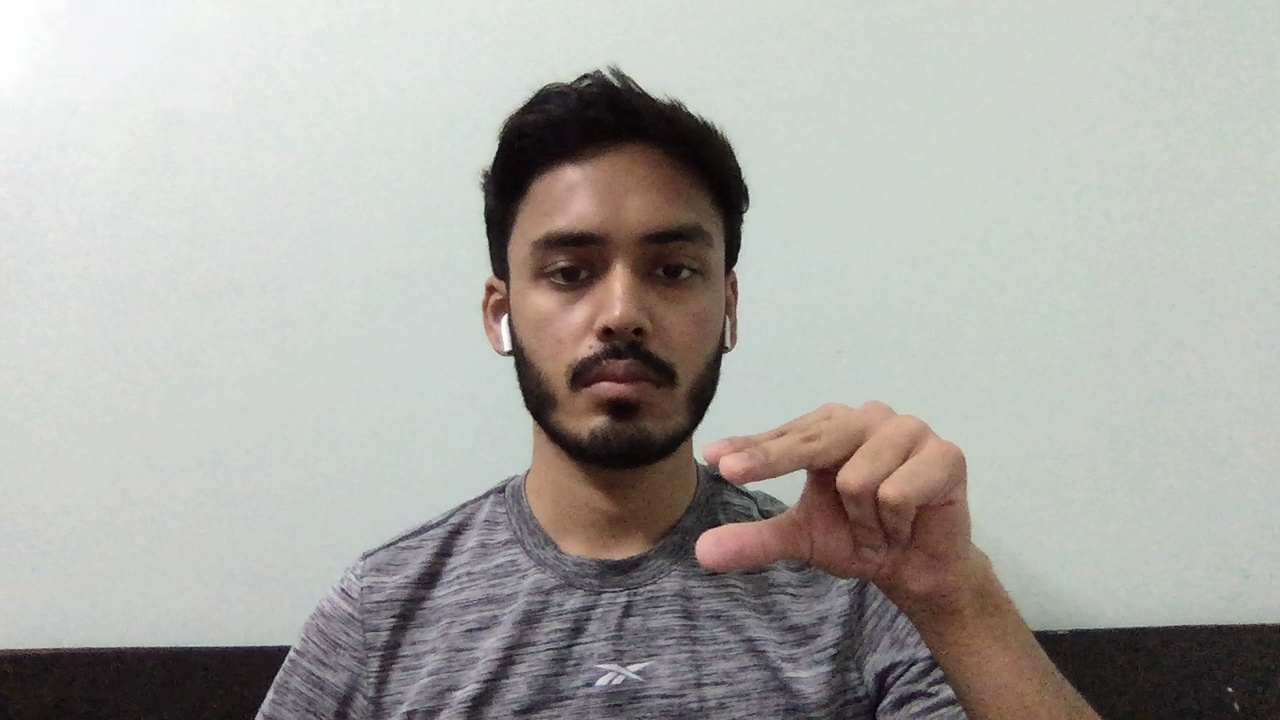No: (682, 387, 1037, 607)
